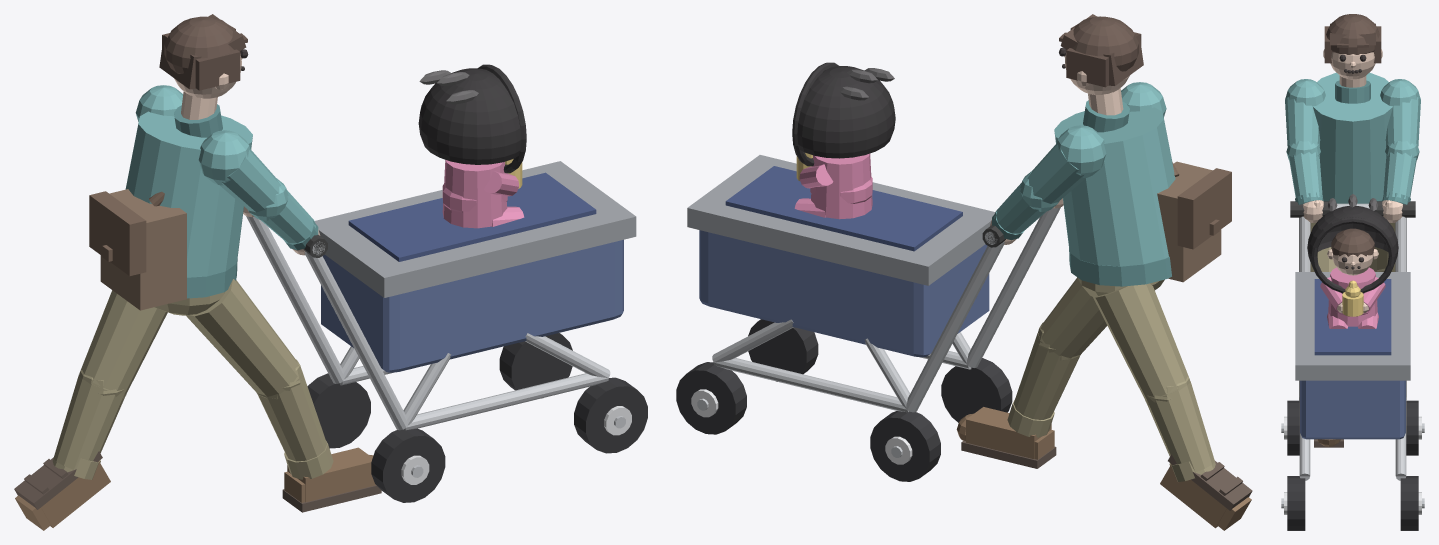
The model's file is 43-man-with-stroller.glb.
3 views of the same model, side by side, from view 1: azimuth 30°, elevation 25°; view 2: azimuth 150°, elevation 25°; view 3: azimuth 270°, elevation 25° (orthographic). The views are drawn at different scales.
Parts seen in each view (by area): view 1: Tub, TubRim, SweaterBody, TubOpening, Canopy, LegR_Thigh, BagBody, LegL_Thigh, LegL_Shin, WheelBR_Tire, WheelFR_Tire, BagFlap (+25 smaller); view 2: Tub, SweaterBody, TubRim, TubOpening, Canopy, LegL_Thigh, LegL_Shin, WheelFL_Tire, WheelBL_Tire, BagFlap, BagBody, LegR_Thigh (+24 smaller); view 3: SweaterBody, TubRim, Tub, TubOpening, Canopy, CanopyRim, HairCap, SleeveL_Upper, SleeveR_Upper, SleeveL_Fore, SleeveR_Fore, BabyBody (+31 smaller).
Boxes of the visible parts, x1,y1,x2,y2 form: Tub: [321, 239, 623, 372]; TubRim: [314, 161, 636, 297]; SweaterBody: [125, 111, 252, 277]; TubOpening: [348, 172, 596, 261]; Canopy: [418, 68, 521, 164]; LegR_Thigh: [186, 279, 298, 396]; BagBody: [100, 189, 186, 310]; LegL_Thigh: [81, 290, 167, 394]; LegL_Shin: [53, 375, 126, 469]; WheelBR_Tire: [371, 428, 445, 502]; WheelFR_Tire: [574, 377, 647, 453]; BagFlap: [89, 191, 146, 275]; Tub: [699, 230, 989, 357]; SweaterBody: [1054, 107, 1175, 266]; TubRim: [687, 155, 995, 285]; TubOpening: [725, 166, 962, 251]; Canopy: [797, 66, 895, 158]; LegL_Thigh: [1092, 283, 1188, 399]; LegL_Shin: [1145, 381, 1214, 472]; WheelFL_Tire: [676, 362, 746, 434]; WheelBL_Tire: [870, 411, 940, 481]; BagFlap: [1177, 168, 1231, 249]; BagBody: [1157, 161, 1221, 282]; LegR_Thigh: [1040, 278, 1107, 358]; SweaterBody: [1313, 72, 1392, 203]; TubRim: [1295, 272, 1410, 380]; Tub: [1300, 380, 1405, 439]; TubOpening: [1314, 279, 1391, 355]; Canopy: [1307, 206, 1398, 263]; CanopyRim: [1310, 217, 1395, 293]; HairCap: [1326, 14, 1379, 54]; SleeveL_Upper: [1385, 97, 1420, 146]; SleeveR_Upper: [1285, 97, 1320, 146]; SleeveL_Fore: [1383, 152, 1416, 199]; SleeveR_Fore: [1289, 152, 1322, 199]; BabyBody: [1328, 267, 1377, 326].
Size of the model in its own units: 2.06 by 1.72 by 0.595.
